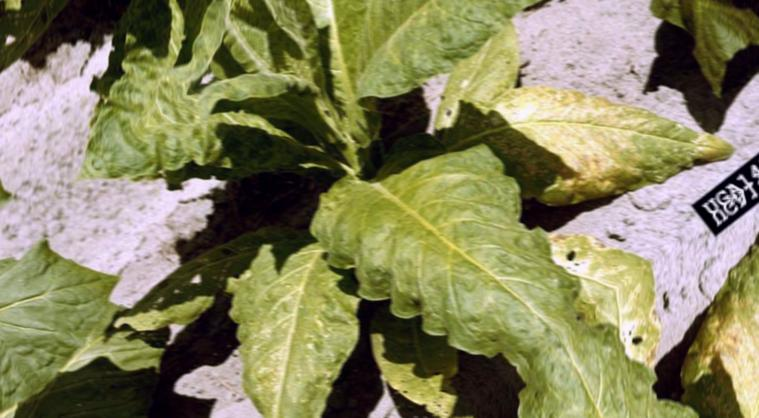Tomato leaf mosaic virus: (291, 93, 610, 418), (0, 49, 325, 344), (151, 202, 410, 418), (323, 0, 585, 130)
